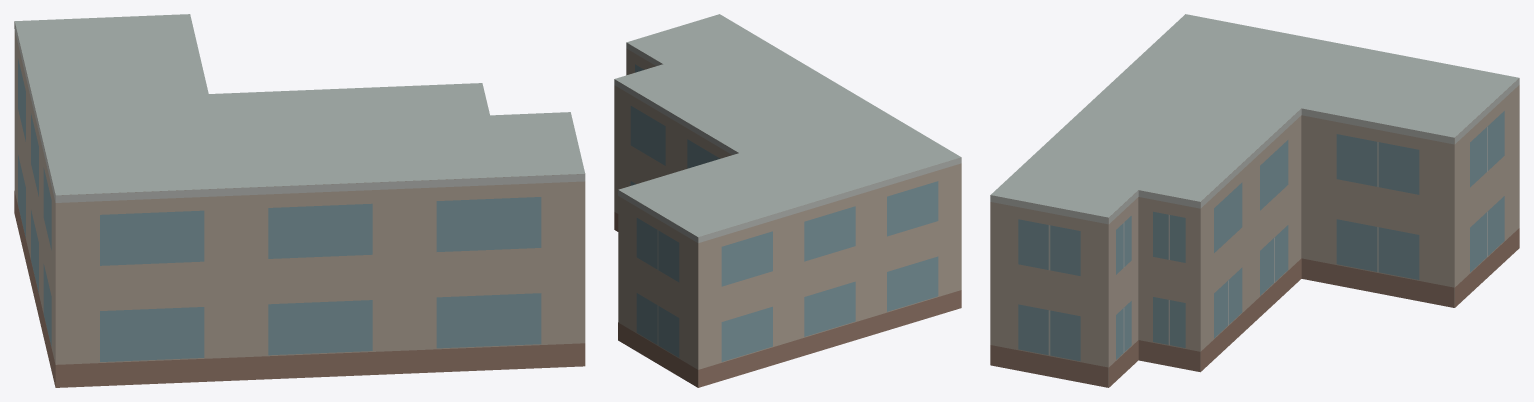
Rendered from survey-upis-32826975.glb.
3 renders of one model, left to right at view 1: azimuth 30°, elevation 25°; view 2: azimuth 150°, elevation 25°; view 3: azimuth 270°, elevation 25°, orthographic. The views are drawn at different scales.
Visible parts, largest first — view 1: survey-upis-32826975.tmp; view 2: survey-upis-32826975.tmp; view 3: survey-upis-32826975.tmp.
Part boxes in pixels (x1=…): survey-upis-32826975.tmp: x1=14, y1=14, x2=585, y2=387; survey-upis-32826975.tmp: x1=614, y1=14, x2=961, y2=387; survey-upis-32826975.tmp: x1=990, y1=14, x2=1519, y2=387.
Bounding box in the file's own units: 15.65 × 6.1 × 17.19.
